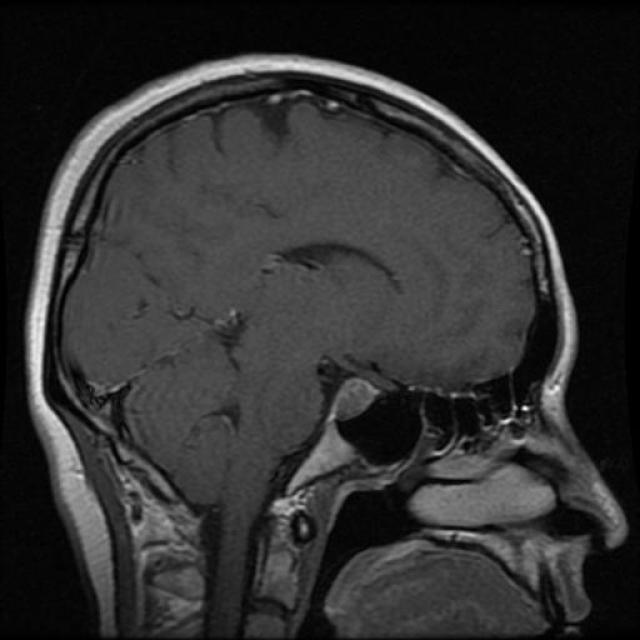pituitary: (328, 363, 386, 428)
